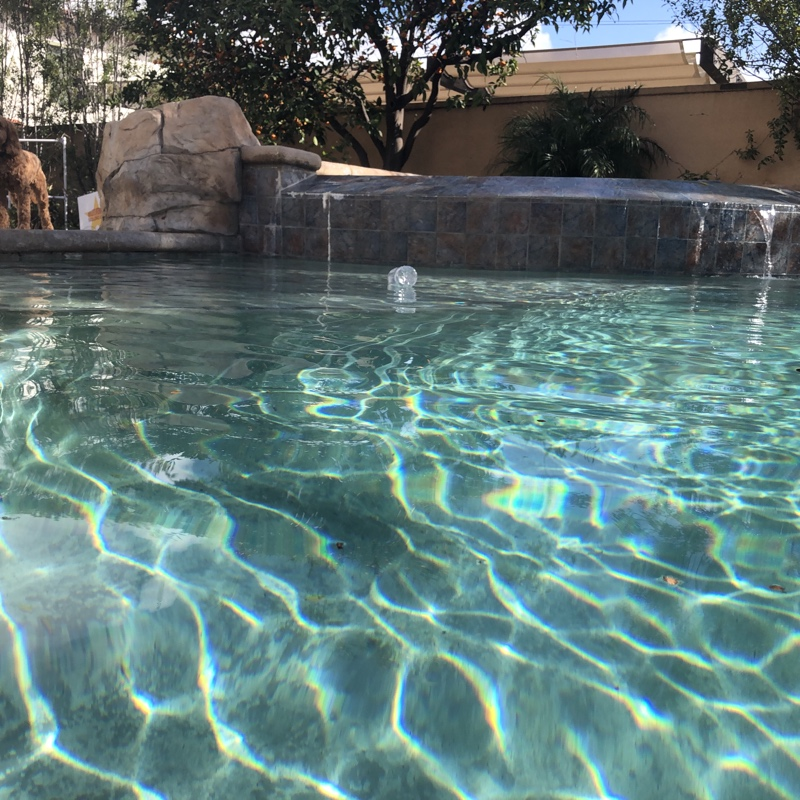Plastic Bottle: (384, 265, 420, 292)
